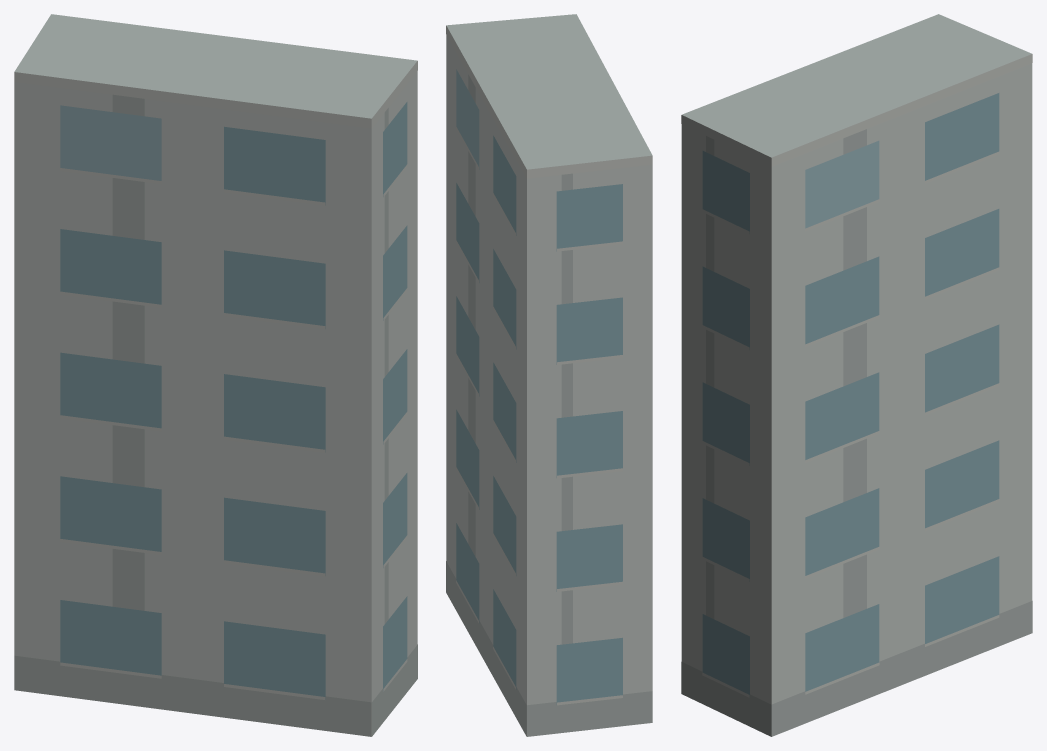
File: survey-upis-32782705.glb
3 renders of one model, left to right at view 1: azimuth 30°, elevation 25°; view 2: azimuth 150°, elevation 25°; view 3: azimuth 270°, elevation 25°, orthographic. The views are drawn at different scales.
Parts seen in each view (by area): view 1: survey-upis-32782705.tmp; view 2: survey-upis-32782705.tmp; view 3: survey-upis-32782705.tmp.
Part boxes in pixels (x1,y1,x2,y2): survey-upis-32782705.tmp: (14,14,417,736); survey-upis-32782705.tmp: (446,14,652,736); survey-upis-32782705.tmp: (681,14,1032,736).
Bounding box in the file's own units: 8.12 × 15.25 × 8.38.
